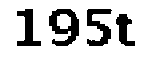1: (12, 7, 43, 51)
5: (84, 5, 114, 49)
9: (49, 6, 79, 50)
t: (115, 12, 139, 51)
